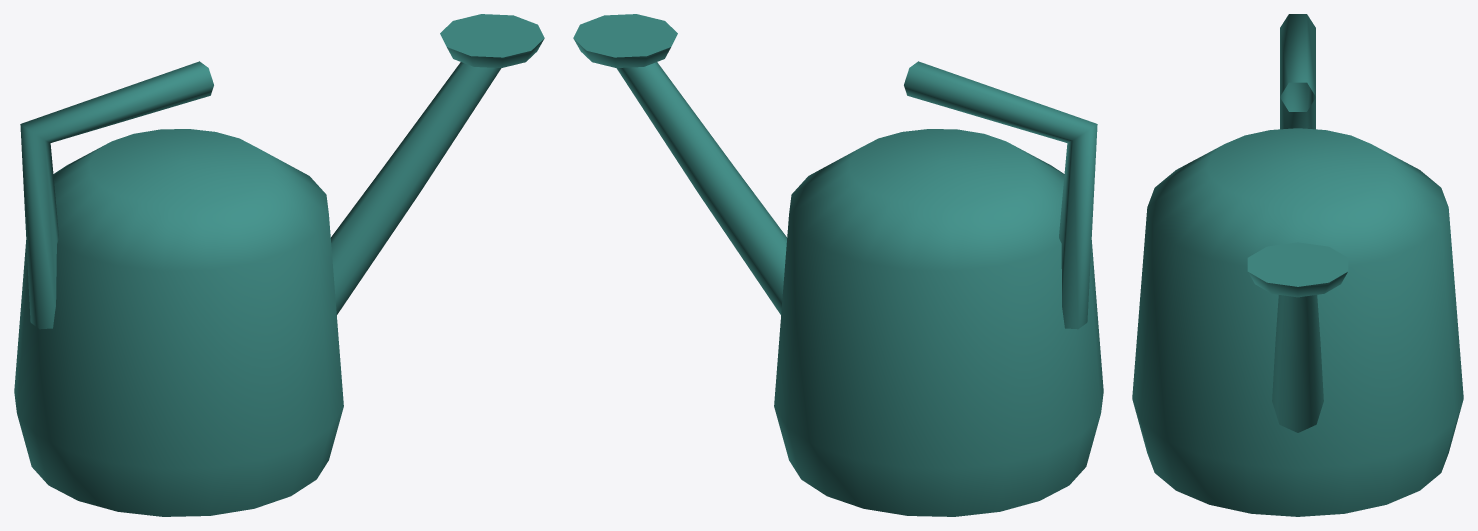
File: furn_watering_can.glb
The picture shows the model from 3 angles, left to right: view 1: azimuth 30°, elevation 25°; view 2: azimuth 150°, elevation 25°; view 3: azimuth 270°, elevation 25°; orthographic projection.
Parts seen in each view (by area): view 1: furn_watering_can_main; view 2: furn_watering_can_main; view 3: furn_watering_can_main.
Part boxes in pixels (left/top/right/bottom): furn_watering_can_main: left=14, top=14, right=544, bottom=516; furn_watering_can_main: left=573, top=14, right=1103, bottom=516; furn_watering_can_main: left=1132, top=14, right=1463, bottom=516.
Bounding box in the file's own units: 0.3931 × 0.2804 × 0.22.
